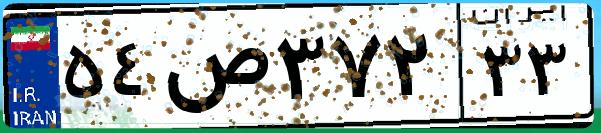2: (385, 28, 445, 110)
3: (270, 28, 330, 110), (475, 38, 525, 113), (525, 38, 570, 115)
4: (110, 28, 158, 98)
5: (57, 26, 110, 100)
7: (330, 28, 385, 110)
ص: (158, 20, 270, 120)
